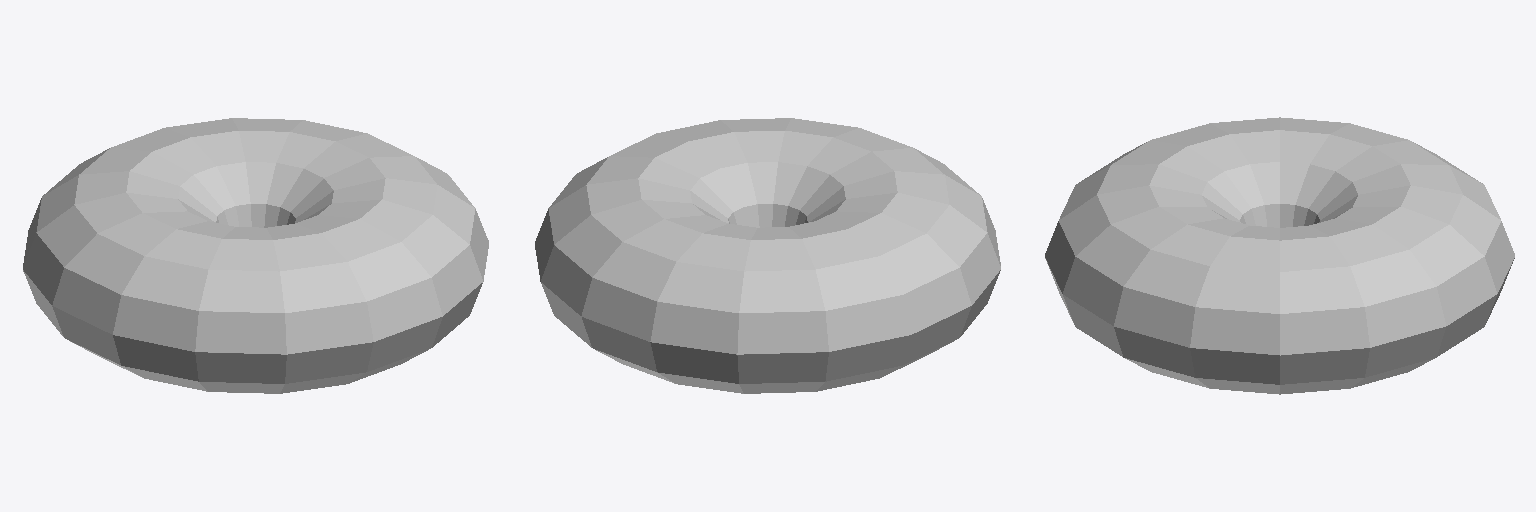
The model's file is Bagel_ChangedUV.obj.
3 renders of one model, left to right at view 1: azimuth 30°, elevation 25°; view 2: azimuth 150°, elevation 25°; view 3: azimuth 270°, elevation 25°, orthographic.
Parts seen in each view (by area): view 1: Bagel_1:Bagel; view 2: Bagel_1:Bagel; view 3: Bagel_1:Bagel.
Part boxes in pixels (x1,y1,x2,y2): Bagel_1:Bagel: (23, 118, 488, 393); Bagel_1:Bagel: (535, 118, 1000, 393); Bagel_1:Bagel: (1045, 117, 1514, 394).
Size of the model in its own units: 0.4622 by 0.153 by 0.4622.